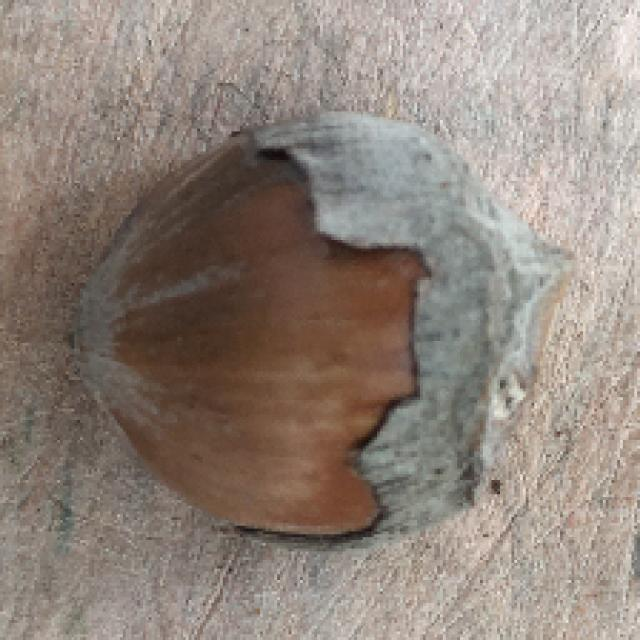DamagedHazelnut: (80, 119, 577, 554)
